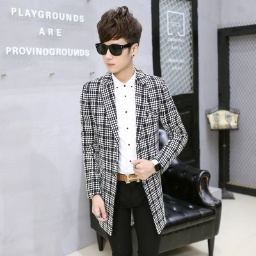face: (96, 7, 143, 73)
